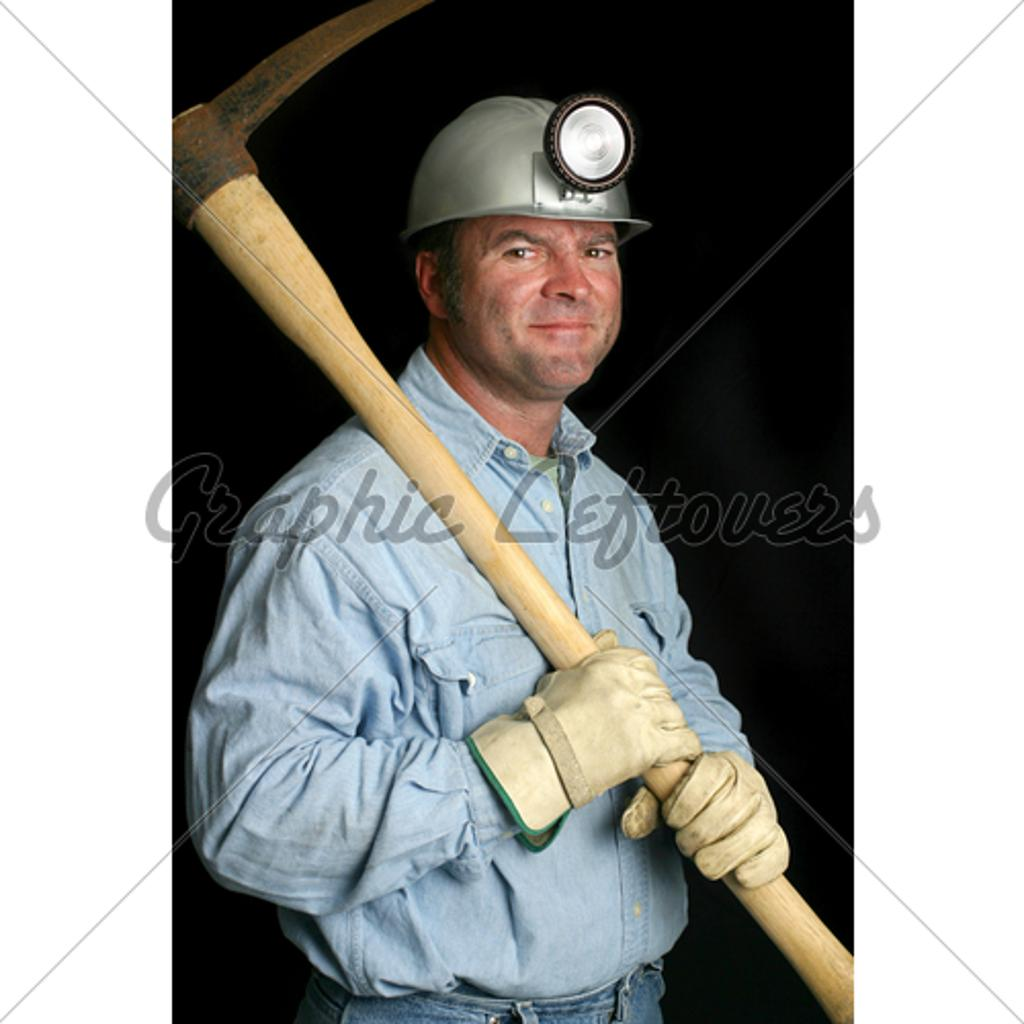face: (452, 150, 624, 372)
